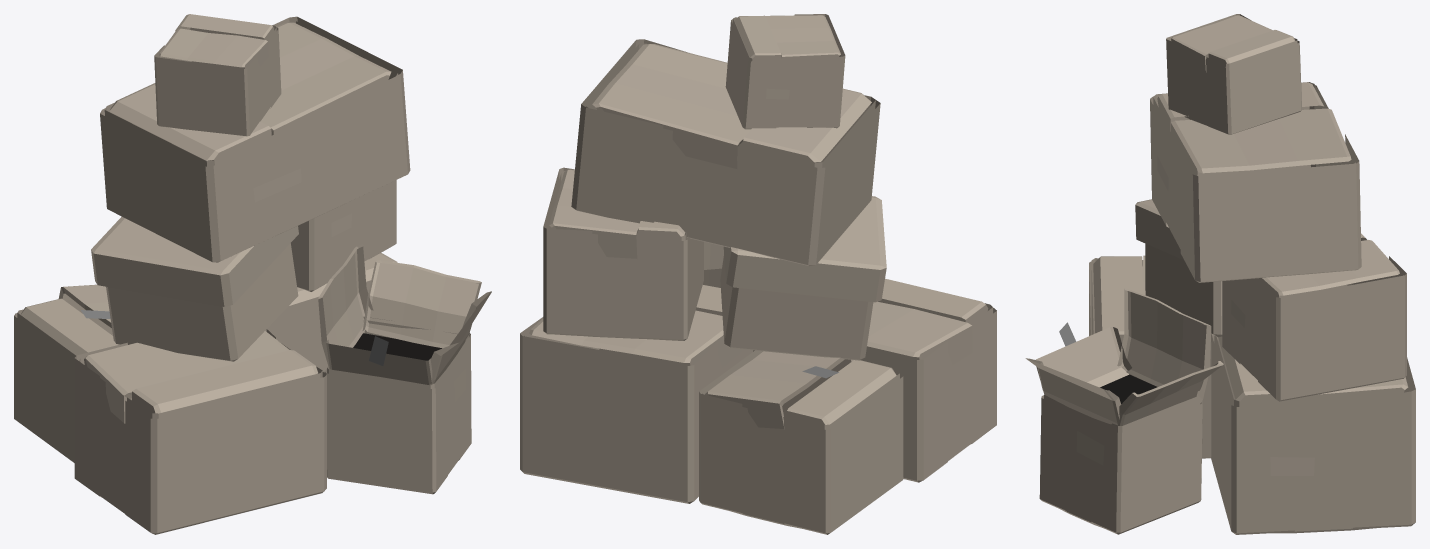
The model's file is CardboardBox01.fbx.
The picture shows the model from 3 angles, left to right: view 1: azimuth 30°, elevation 25°; view 2: azimuth 150°, elevation 25°; view 3: azimuth 270°, elevation 25°; orthographic projection. The views are drawn at different scales.
Parts seen in each view (by area): view 1: CardboardBox01; view 2: CardboardBox01; view 3: CardboardBox01.
Part boxes in pixels (bbox=[...]): CardboardBox01: bbox=[14, 14, 491, 534]; CardboardBox01: bbox=[520, 14, 996, 534]; CardboardBox01: bbox=[1025, 14, 1415, 534].
Size of the model in its own units: 90.44 by 102 by 87.69.
